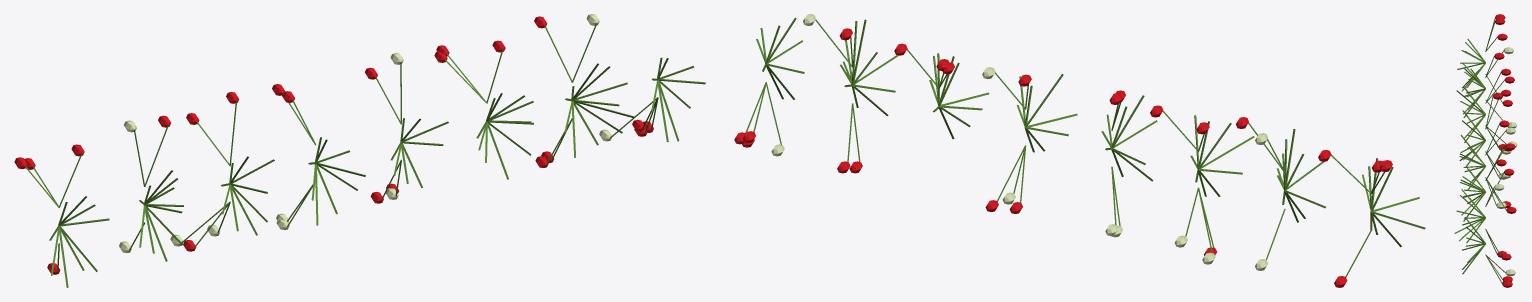
File: r30c1_rest.obj
The picture shows the model from 3 angles, left to right: view 1: azimuth 30°, elevation 25°; view 2: azimuth 150°, elevation 25°; view 3: azimuth 270°, elevation 25°; orthographic projection. The views are drawn at different scales.
Visible parts, largest first — view 1: r30c1_rest; view 2: r30c1_rest; view 3: r30c1_rest.
Part boxes in pixels (x1,y1,x2,y2): r30c1_rest: (14, 14, 705, 287); r30c1_rest: (734, 14, 1425, 287); r30c1_rest: (1454, 14, 1517, 287).
Bounding box in the file's own units: 1.93 × 0.4027 × 0.2587.
